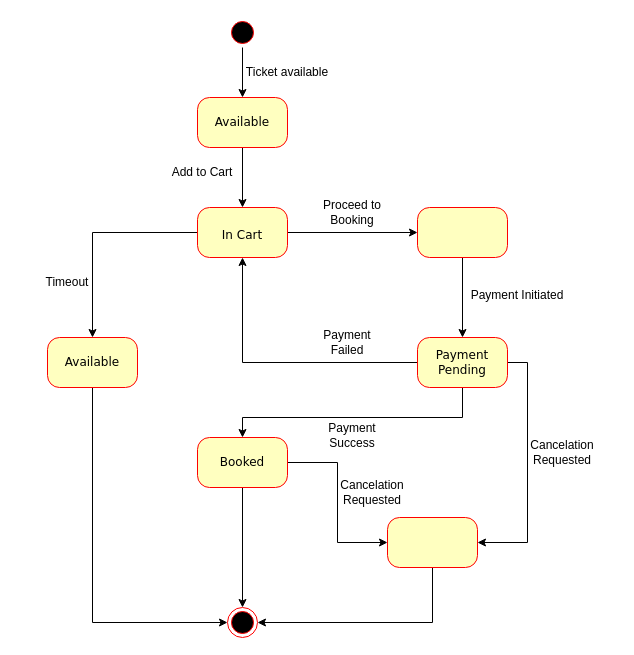
Image size: 634x655. Some labels were removed from this diagram. The box of each missing label's shape, as (x1, y1, x2, y2) in pixels:
Canceled: (386, 516, 478, 568)
Reserved: (416, 206, 508, 258)
